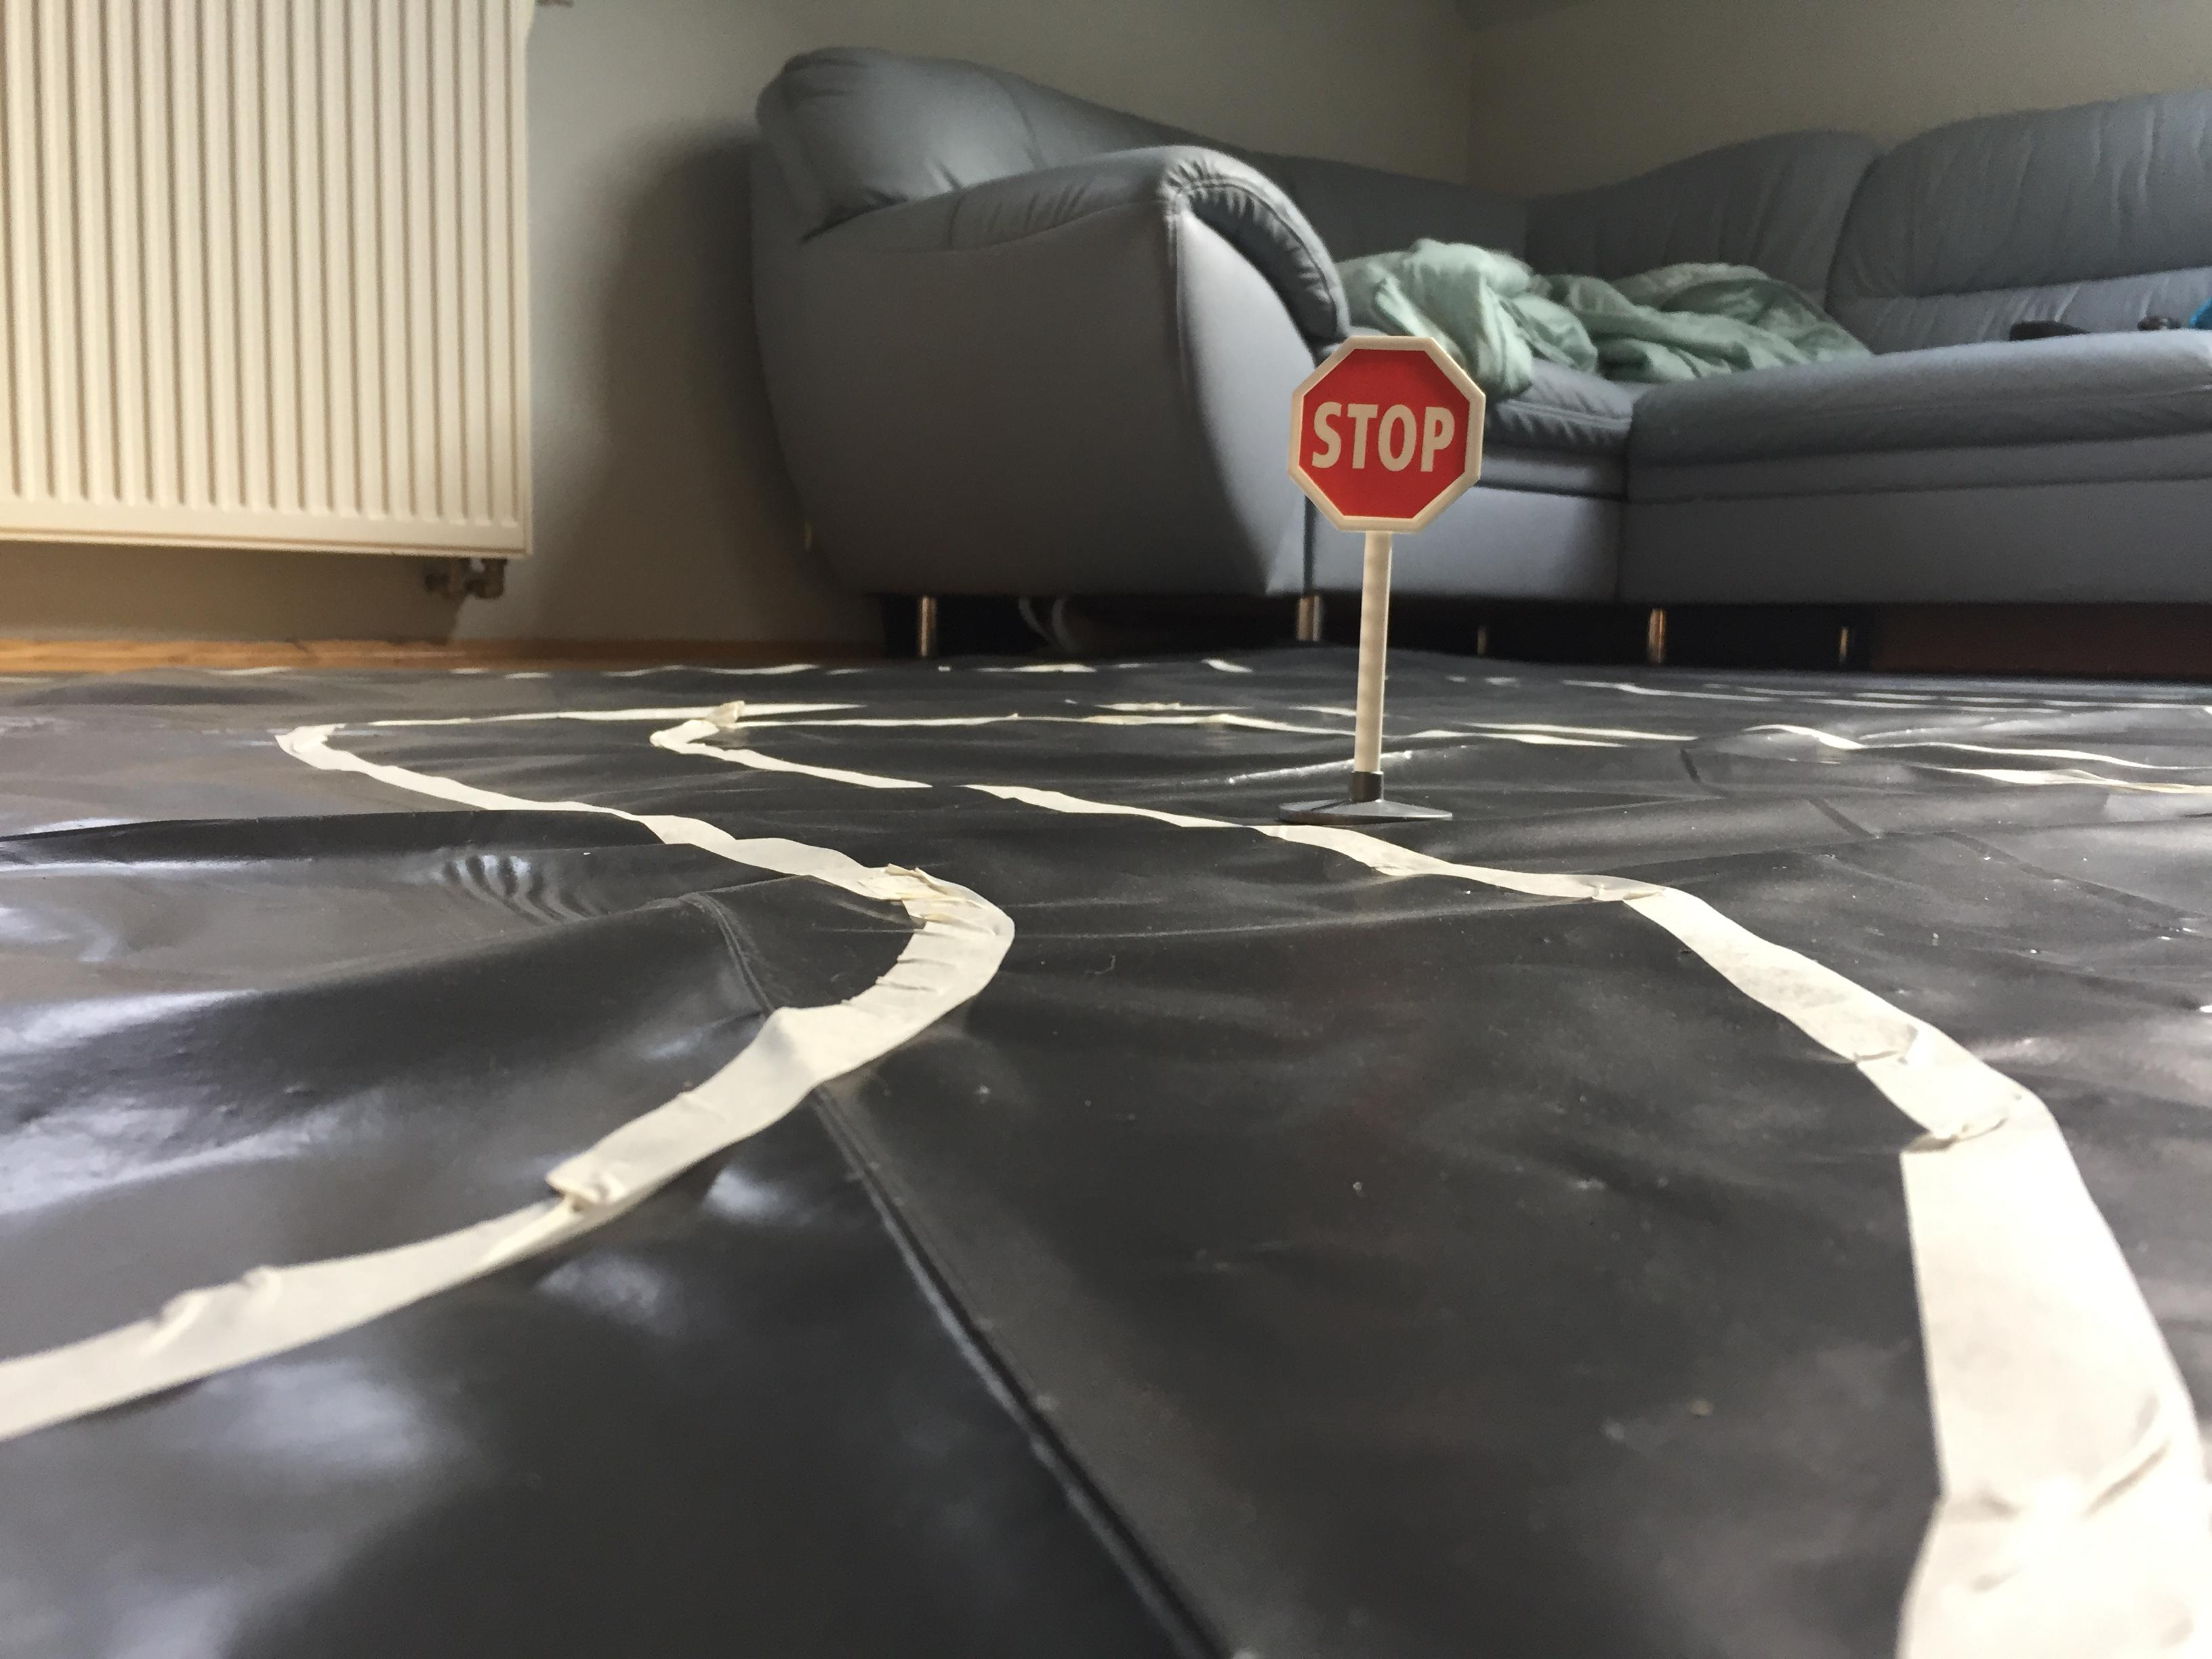stop: (1284, 333, 1491, 542)
